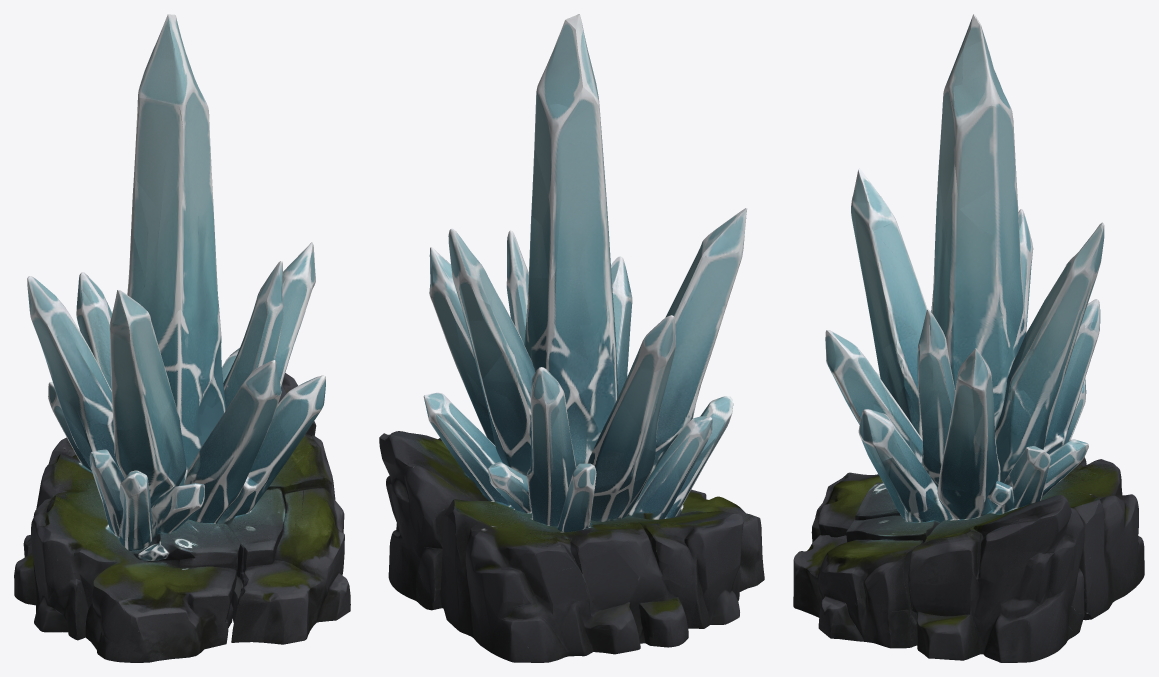
The model's file is glass_spikes.glb.
The picture shows the model from 3 angles, left to right: view 1: azimuth 30°, elevation 25°; view 2: azimuth 150°, elevation 25°; view 3: azimuth 270°, elevation 25°; orthographic projection.
Visible parts, largest first — view 1: Mesh_0; view 2: Mesh_0; view 3: Mesh_0.
Boxes of the visible parts, <box> form: Mesh_0: <box>14,14,350,662</box>; Mesh_0: <box>379,14,764,662</box>; Mesh_0: <box>793,14,1144,662</box>.
Bounding box in the file's own units: 1.06 × 1.9 × 1.06.
Materials: 1 (1 with a texture image).
